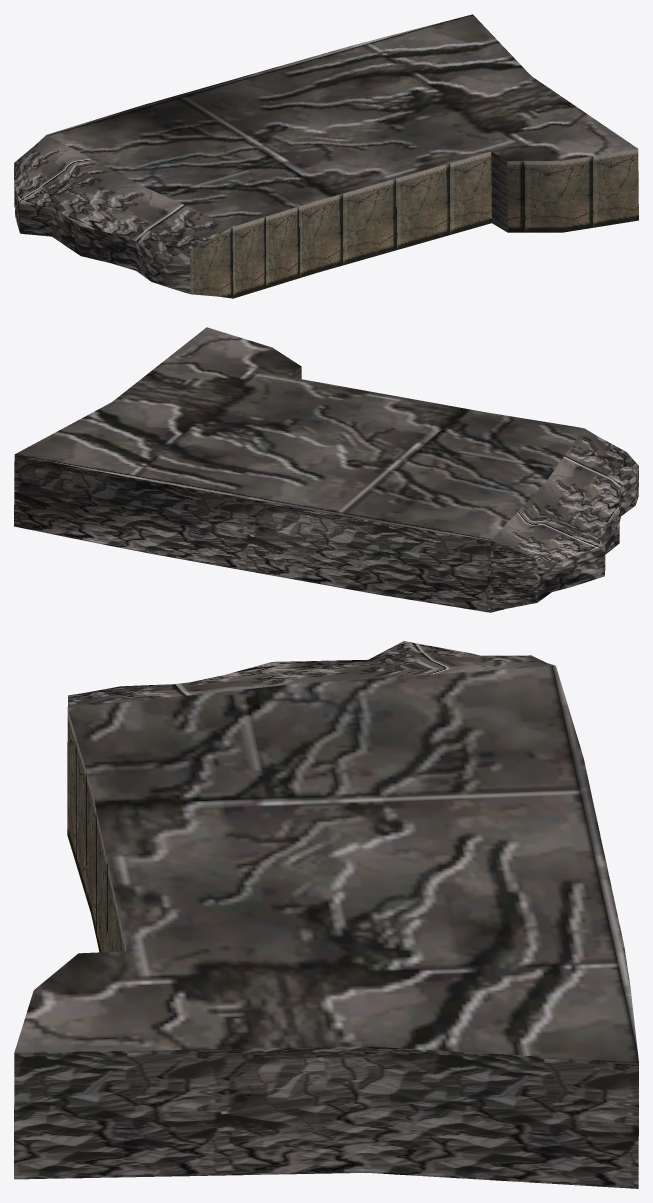
The model's file is INST_SM_DEBRIS_BLOCK_SMALLD.fbx.
The picture shows the model from 3 angles, top to bottom: view 1: azimuth 30°, elevation 25°; view 2: azimuth 150°, elevation 25°; view 3: azimuth 270°, elevation 25°; orthographic projection. The views are drawn at different scales.
Parts seen in each view (by area): view 1: INST_SM_DEBRIS_BLOCK_SMALLD; view 2: INST_SM_DEBRIS_BLOCK_SMALLD; view 3: INST_SM_DEBRIS_BLOCK_SMALLD.
Part boxes in pixels (<box>): INST_SM_DEBRIS_BLOCK_SMALLD: <box>14,14,638,298</box>; INST_SM_DEBRIS_BLOCK_SMALLD: <box>14,327,638,612</box>; INST_SM_DEBRIS_BLOCK_SMALLD: <box>14,641,638,1188</box>.
Bounding box in the file's own units: 55937 × 8151 × 33166.
Materials: 5 (5 with a texture image).
